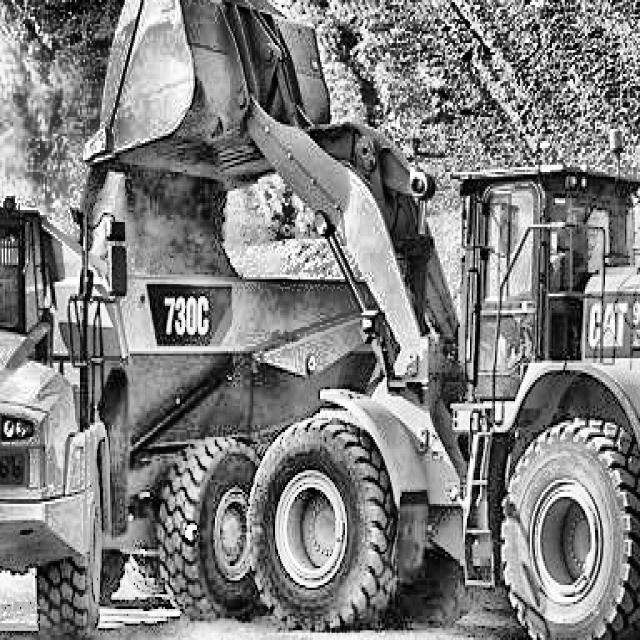buldozerpayloadergrader: (78, 0, 640, 640)
dump_truck: (0, 162, 325, 640)
